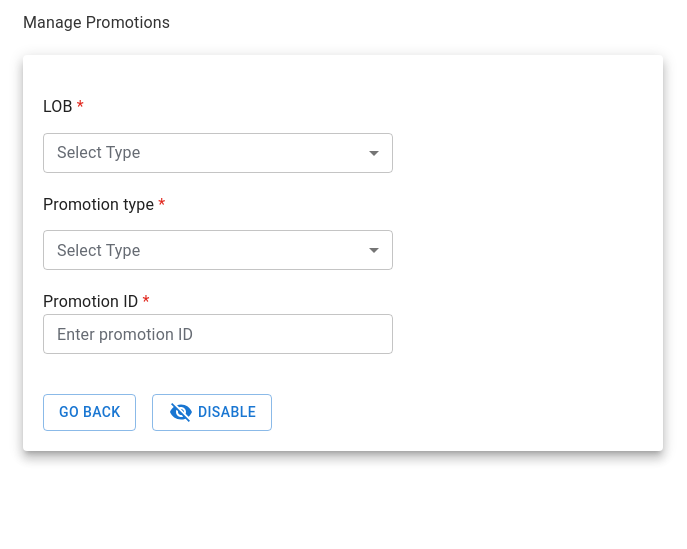
Test case: Manage promotions unit tests › clicking on disable thowrs error for empty fields
Click the button with test id "disable-btn" at (212, 412), box [152,394,272,431]
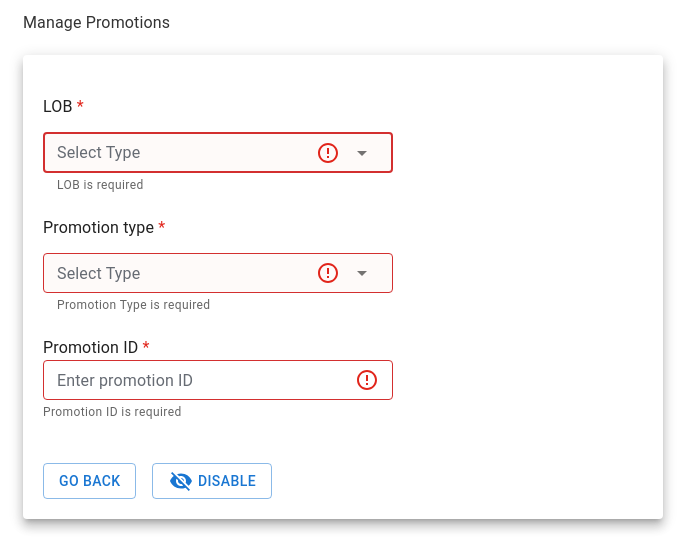
Now the text "LOB is required" is shown, box [57,178,144,192]
Now the text "Promotion Type is required" is shown, box [57,298,210,312]
Now the text "Promotion ID is required" is shown, box [43,405,182,419]
